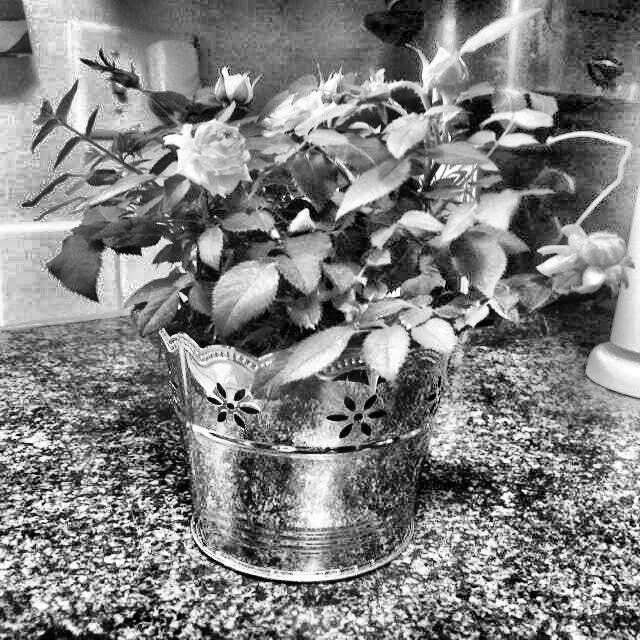plants: (47, 46, 638, 582), (482, 210, 636, 322)
